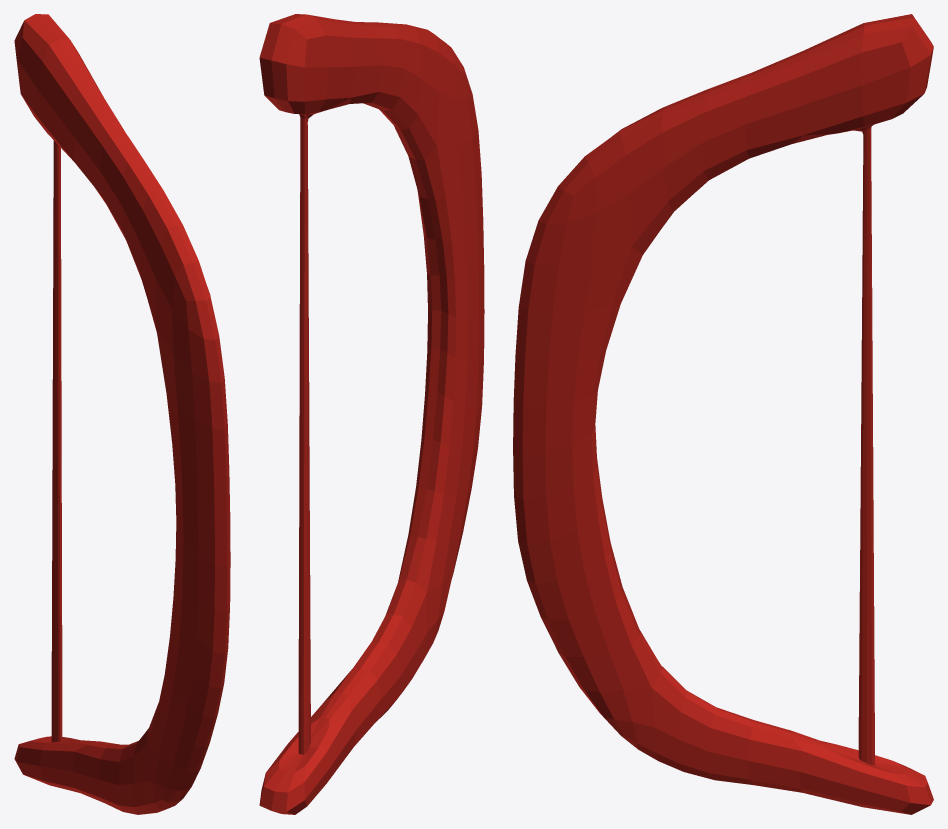
Rendered from arcoMinion.glb.
3 views of the same model, side by side, from view 1: azimuth 30°, elevation 25°; view 2: azimuth 150°, elevation 25°; view 3: azimuth 270°, elevation 25° (orthographic). The views are drawn at different scales.
Visible parts, largest first — view 1: arco; view 2: arco; view 3: arco.
Part boxes in pixels (<box>): arco: <box>14,14,230,814</box>; arco: <box>259,14,484,814</box>; arco: <box>513,14,933,814</box>.
Bounding box in the file's own units: 0.0233 × 0.4059 × 0.1954.
